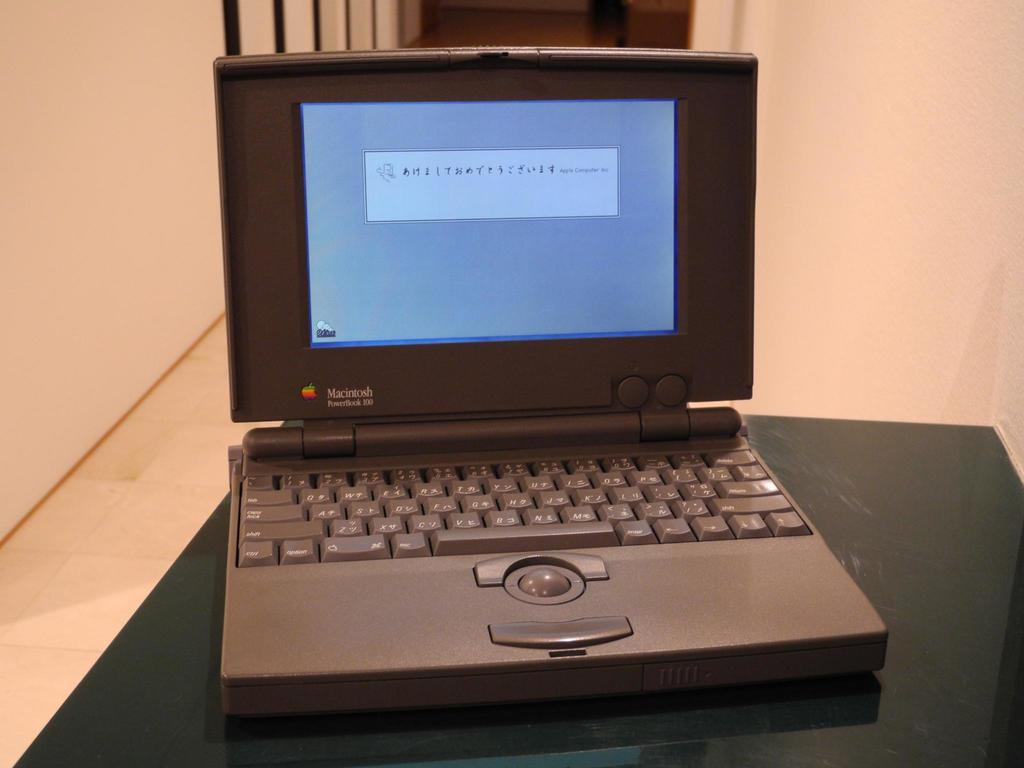Computer-keyboard: (236, 448, 810, 563)
Laptop: (210, 13, 837, 731)
